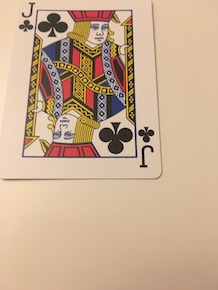JackOfClubs: (2, 1, 166, 181)
